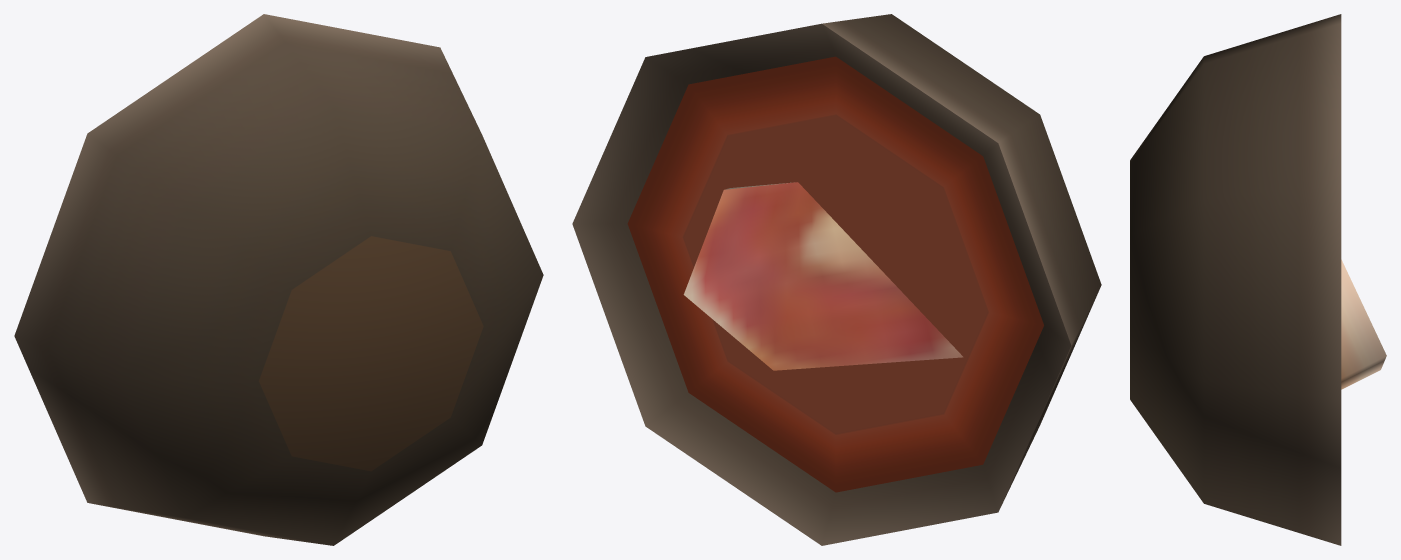
File: Bowl_Soup_A.fbx
3 renders of one model, left to right at view 1: azimuth 30°, elevation 25°; view 2: azimuth 150°, elevation 25°; view 3: azimuth 270°, elevation 25°, orthographic.
Parts seen in each view (by area): view 1: Bowl_Soup_A; view 2: Bowl_Soup_A; view 3: Bowl_Soup_A.
Part boxes in pixels (x1,y1,x2,y2): Bowl_Soup_A: (14, 14, 543, 545); Bowl_Soup_A: (572, 14, 1101, 545); Bowl_Soup_A: (1130, 14, 1386, 545).
Size of the model in its own units: 0.5336 by 0.5336 by 0.242.
